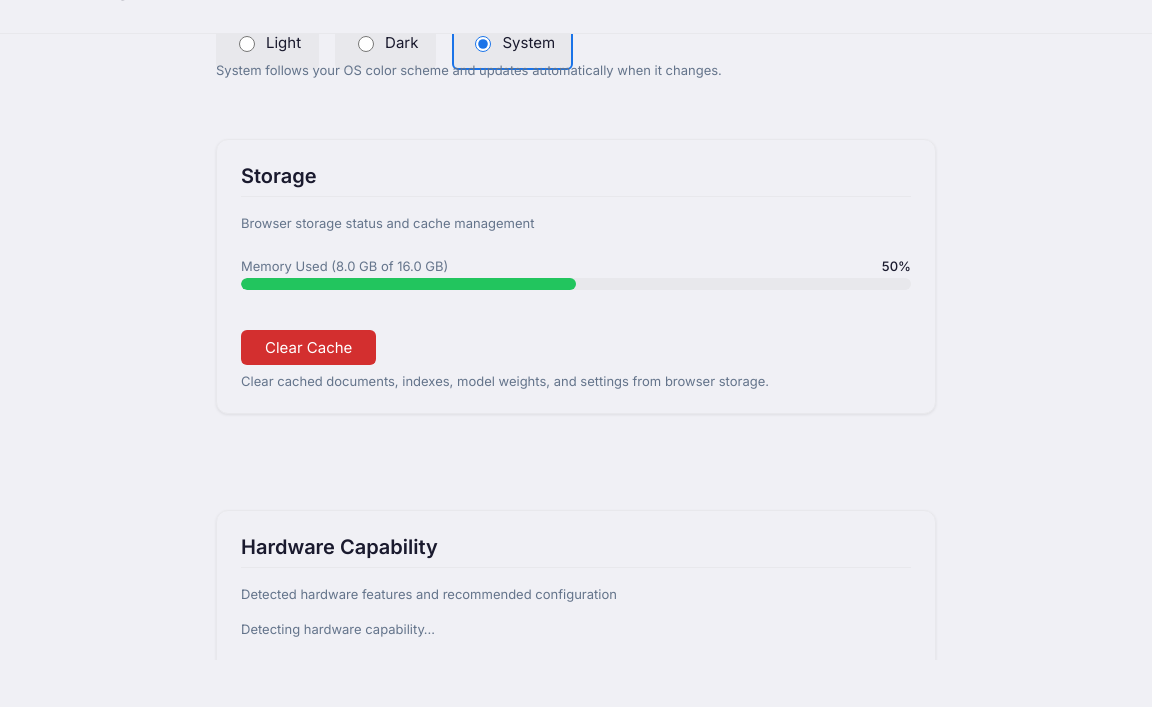
SettingsPage › Clear cache requires two clicks (confirm)
(page scrolled)
Check: the heading "Storage" is shown, box [241,164,911,197]
# First click - should show confirm state
Click the button "Clear Cache" at (309, 348), box [241,330,376,365]
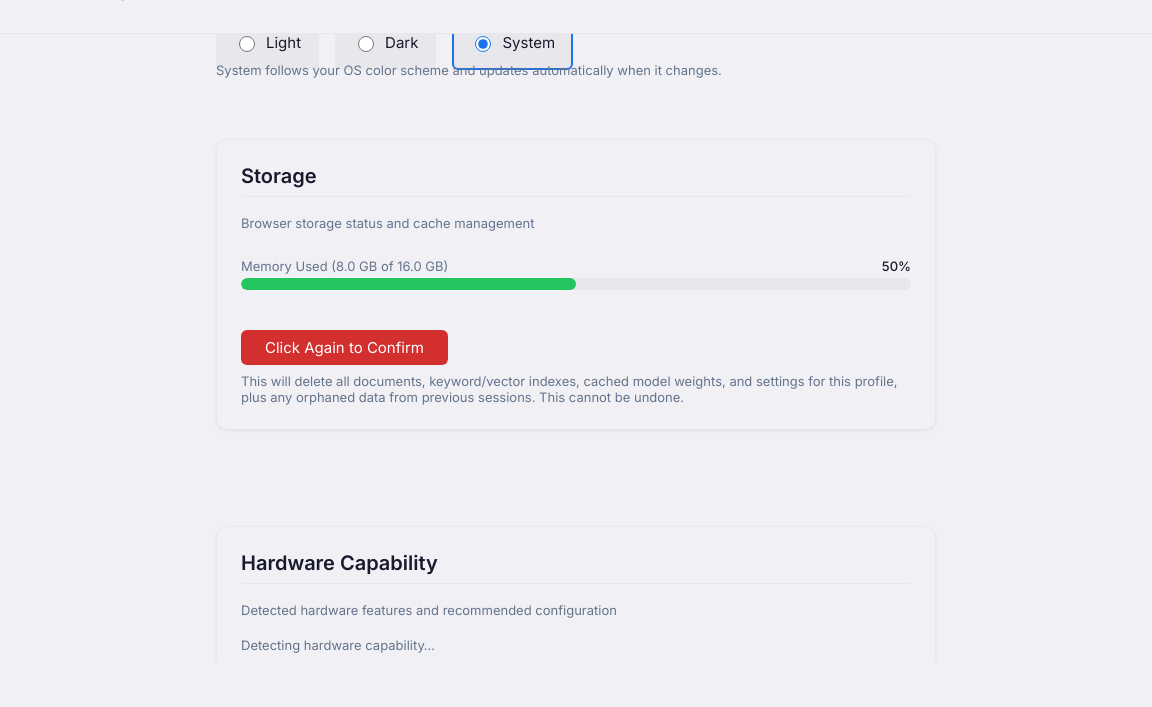
Check: the button "Click Again to Confirm" is shown
# Second click - should actually clear
Click the button "Click Again to Confirm" at (344, 348), box [241,330,448,365]
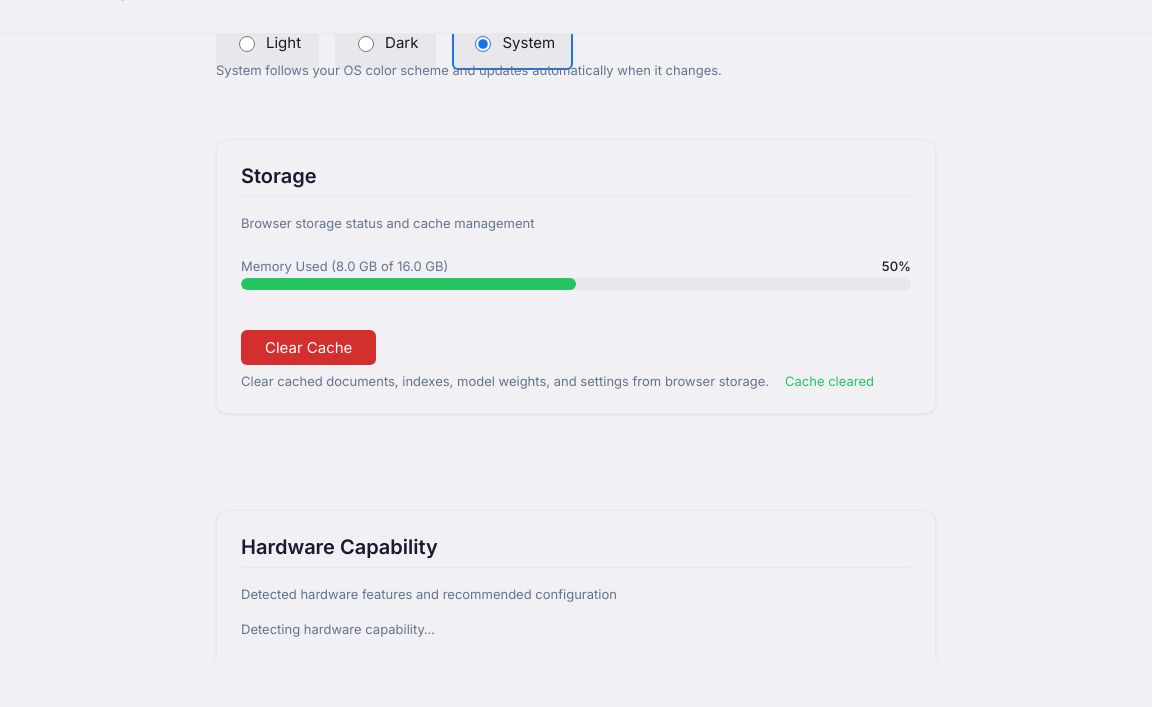
Check: the button "Click Again to Confirm" is gone
